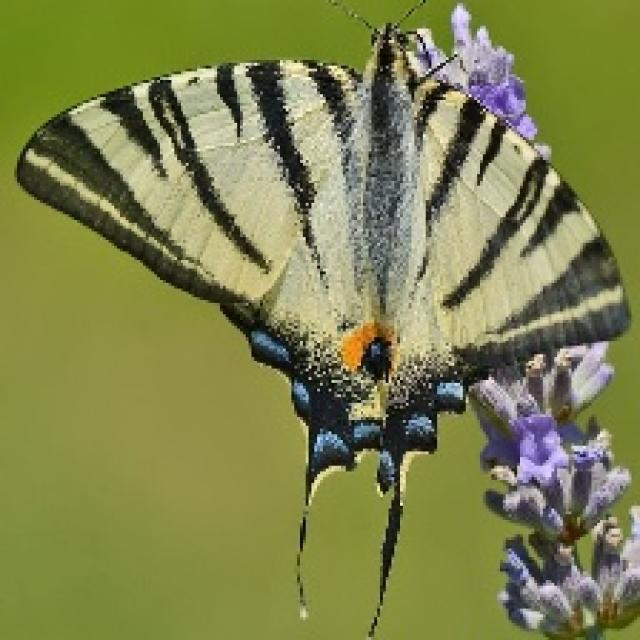butterfly: (11, 0, 632, 637)
